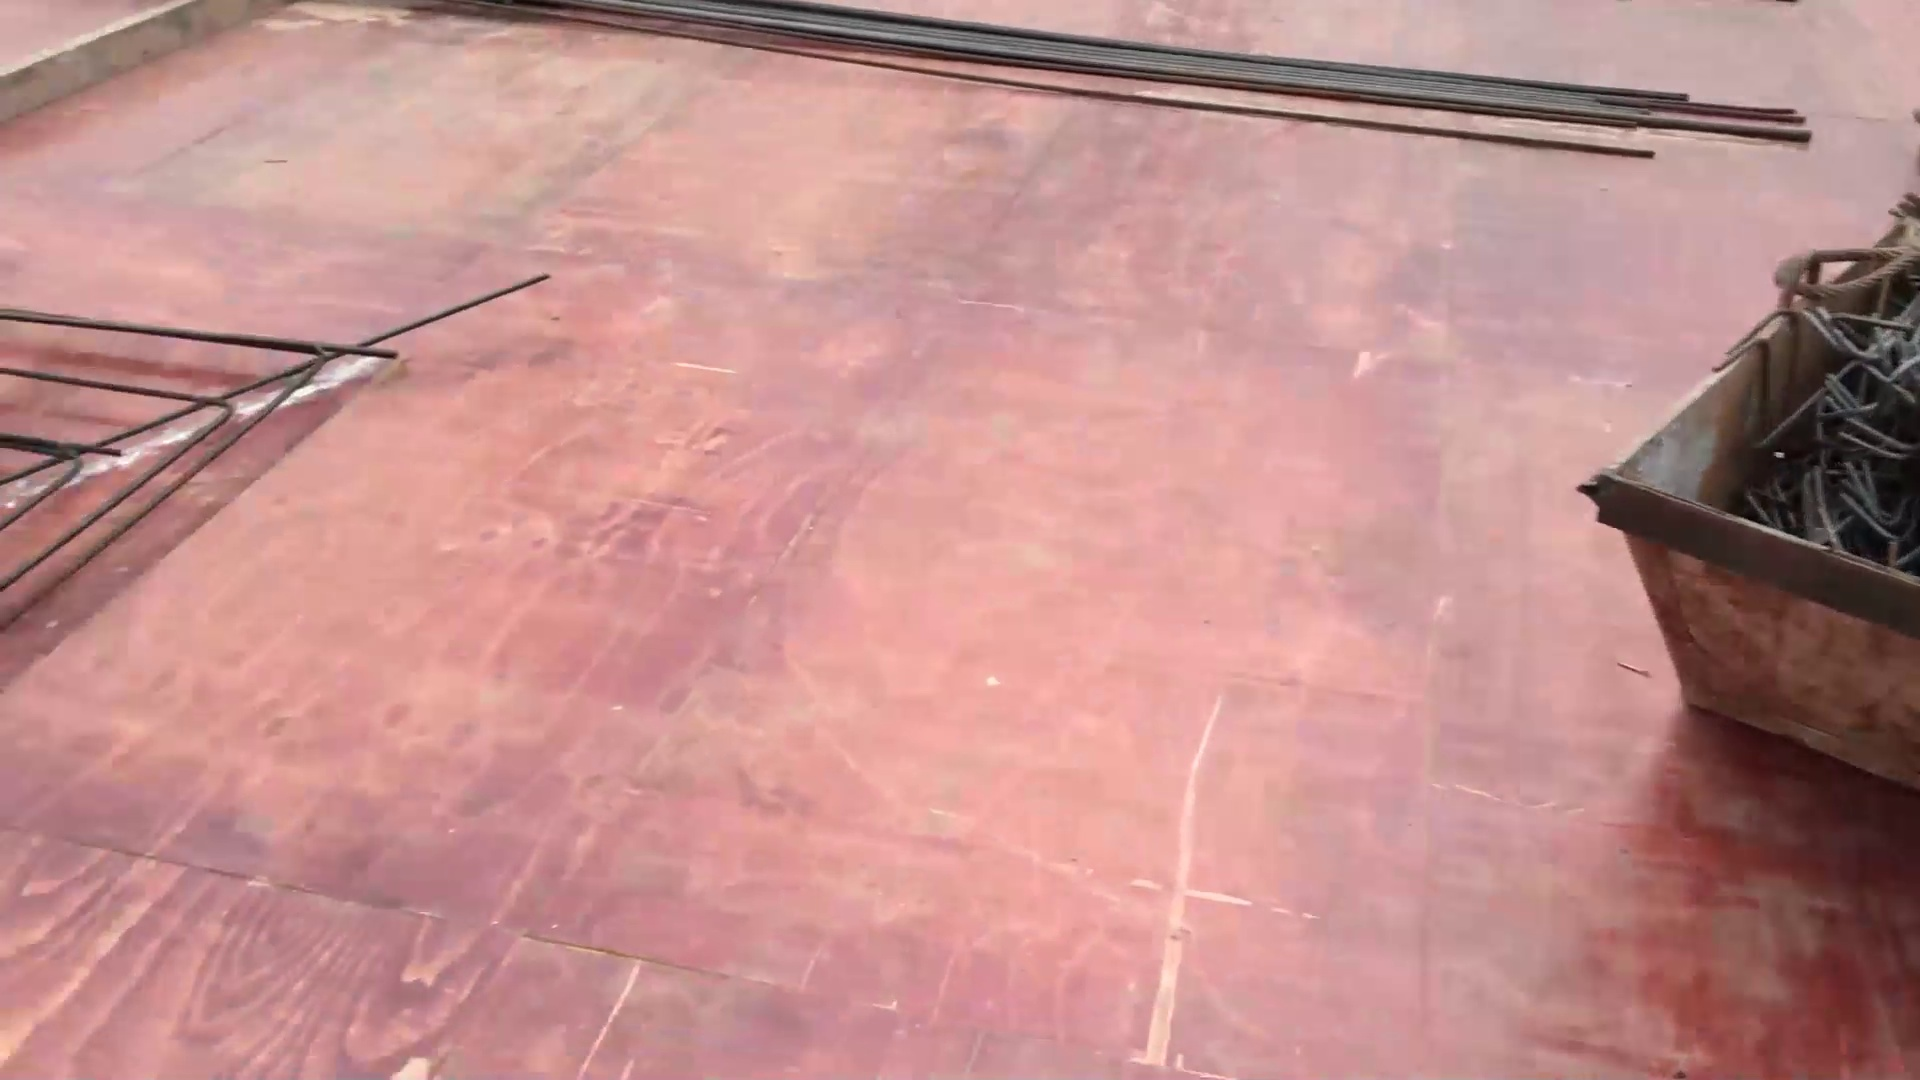hopper: (1590, 171, 1920, 807)
